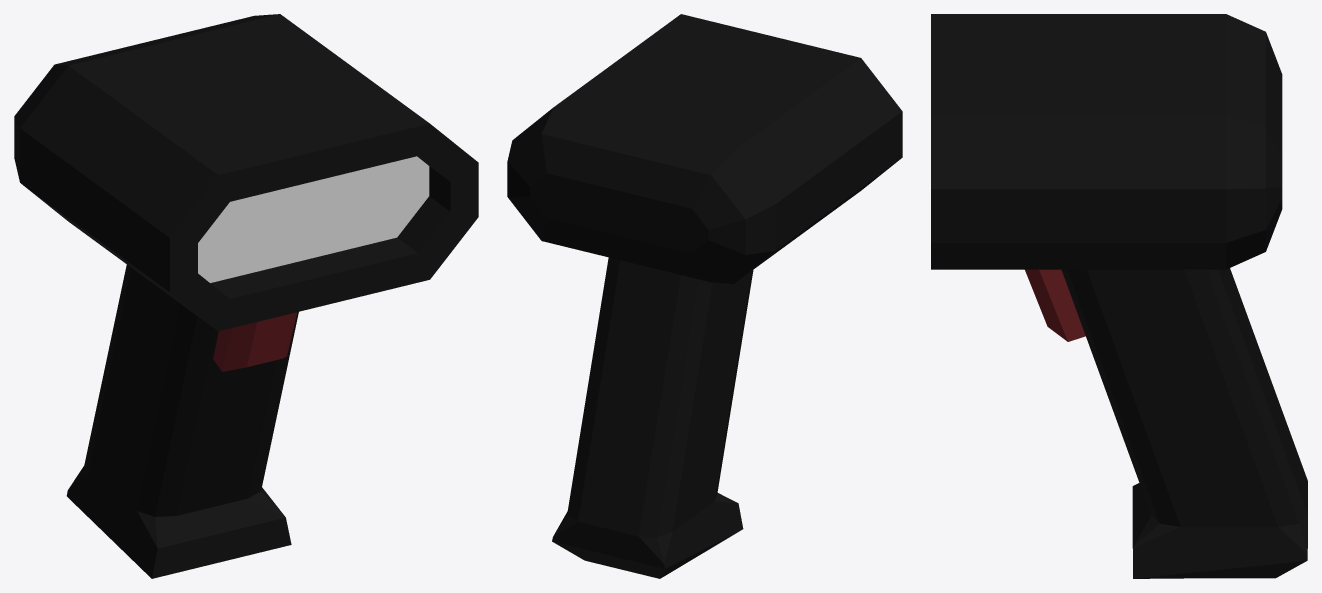
Rendered from BarcodeScanner.fbx.
The picture shows the model from 3 angles, left to right: view 1: azimuth 30°, elevation 25°; view 2: azimuth 150°, elevation 25°; view 3: azimuth 270°, elevation 25°; orthographic projection. The views are drawn at different scales.
Parts seen in each view (by area): view 1: Scanner, Trigger; view 2: Scanner; view 3: Scanner, Trigger.
Boxes of the visible parts, bbox=[...] form: Scanner: bbox=[14, 14, 478, 578]; Trigger: bbox=[213, 312, 297, 371]; Scanner: bbox=[507, 14, 902, 578]; Scanner: bbox=[931, 14, 1307, 578]; Trigger: bbox=[1025, 269, 1085, 341].
Size of the model in its own units: 12.77 by 19.74 by 13.7.
